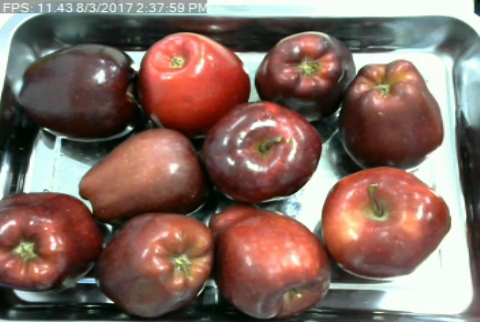Apple: (318, 163, 453, 282), (206, 201, 336, 321), (93, 210, 215, 322), (333, 55, 448, 171), (12, 40, 143, 141), (136, 29, 256, 138), (202, 98, 324, 205), (77, 125, 207, 223), (0, 191, 106, 293), (253, 28, 359, 120)
